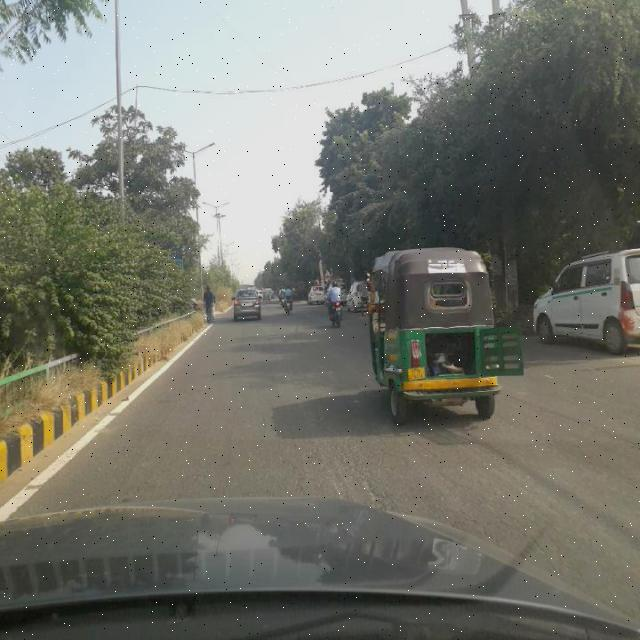D20: (105, 404, 455, 510)
